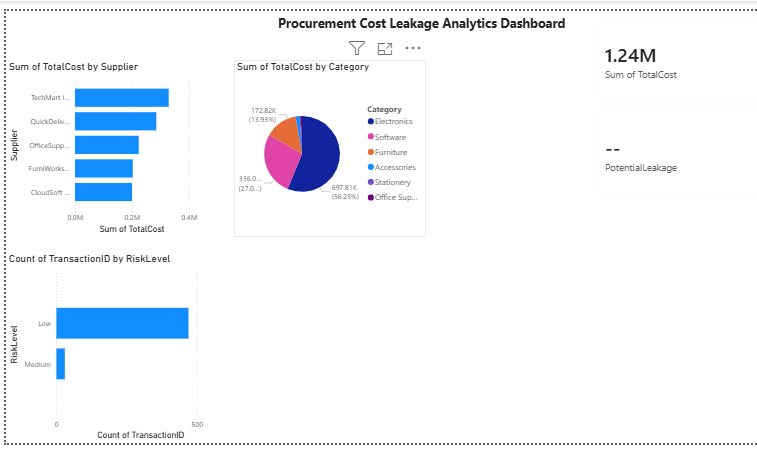

Layout of this report page (visuals, bound fields, positions):
{"tool":"powerbi","page":{"name":"Page 1","canvas":[1280,720],"ordinal":0},"visuals":[{"type":"cardVisual","fields":{"Data":["Sum(leakage_analysis.TotalCost)"]},"box":[0,40,258.3,108.3],"z":0},{"type":"cardVisual","fields":{"Data":["leakage_analysis.PotentialLeakage"]},"box":[258.3,40,311.7,108.3],"z":1000},{"type":"clusteredBarChart","fields":{"Category":["leakage_analysis.RiskLevel"],"Y":["CountNonNull(leakage_analysis.TransactionID)"]},"box":[0,426.7,328.3,293.3],"z":2000},{"type":"clusteredBarChart","fields":{"Category":["leakage_analysis.Supplier"],"Y":["Sum(leakage_analysis.TotalCost)"]},"box":[0,153.3,298.3,273.3],"z":3000},{"type":"pieChart","fields":{"Category":["leakage_analysis.Category"],"Y":["Sum(leakage_analysis.TotalCost)"]},"box":[298.3,163.3,320,295],"z":4000},{"type":"textbox","box":[448.5,0,502,38],"z":5000}]}

Visuals, with their boxes on the page's 1280x720 design canvas (x1, y1, x2, y2). These are canvas units, not pixel positions in the 757x452 screenshot, which may show the page scaled, cropped or inside an application window:
cardVisual - Sum(leakage_analysis.TotalCost): Rect(0, 40, 258, 148)
cardVisual - leakage_analysis.PotentialLeakage: Rect(258, 40, 570, 148)
clusteredBarChart - leakage_analysis.RiskLevel x CountNonNull(leakage_analysis.TransactionID): Rect(0, 427, 328, 720)
clusteredBarChart - leakage_analysis.Supplier x Sum(leakage_analysis.TotalCost): Rect(0, 153, 298, 427)
pieChart - leakage_analysis.Category x Sum(leakage_analysis.TotalCost): Rect(298, 163, 618, 458)
textbox: Rect(448, 0, 950, 38)
